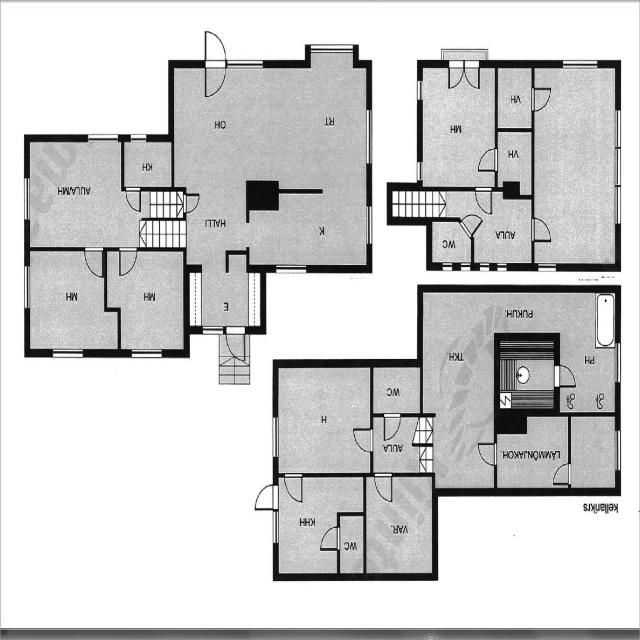door: (200, 29, 228, 101), (445, 63, 484, 91), (372, 471, 396, 504), (82, 244, 104, 279), (282, 473, 304, 504), (475, 150, 498, 178), (352, 421, 372, 453), (532, 85, 552, 115), (227, 328, 245, 361), (257, 485, 278, 513), (548, 456, 569, 484), (477, 439, 499, 465), (530, 215, 551, 242), (320, 526, 339, 554), (126, 182, 142, 214), (119, 247, 137, 274), (556, 366, 576, 389), (460, 212, 480, 234), (384, 413, 398, 442), (184, 192, 204, 212)
window: (612, 109, 624, 226), (363, 107, 375, 181), (222, 58, 272, 74), (309, 41, 354, 57), (88, 132, 126, 150), (21, 178, 34, 225), (556, 56, 595, 70), (615, 339, 624, 390), (24, 264, 33, 314), (50, 346, 82, 359), (365, 206, 375, 247), (272, 414, 280, 464), (128, 349, 161, 361), (616, 423, 624, 471), (534, 260, 558, 274), (272, 511, 281, 548), (275, 264, 308, 273)
zone: (173, 64, 372, 265), (534, 65, 618, 270), (423, 285, 496, 491), (26, 140, 138, 249), (277, 370, 373, 473), (423, 62, 498, 188), (25, 253, 114, 354), (363, 471, 434, 579), (108, 254, 186, 348), (556, 291, 613, 419), (276, 473, 341, 576), (178, 266, 262, 326), (502, 418, 569, 482), (476, 195, 532, 269), (497, 338, 552, 412), (570, 416, 618, 488), (374, 421, 426, 466), (428, 217, 476, 264), (372, 368, 422, 410), (500, 68, 530, 132), (500, 133, 530, 193), (339, 516, 363, 577)
